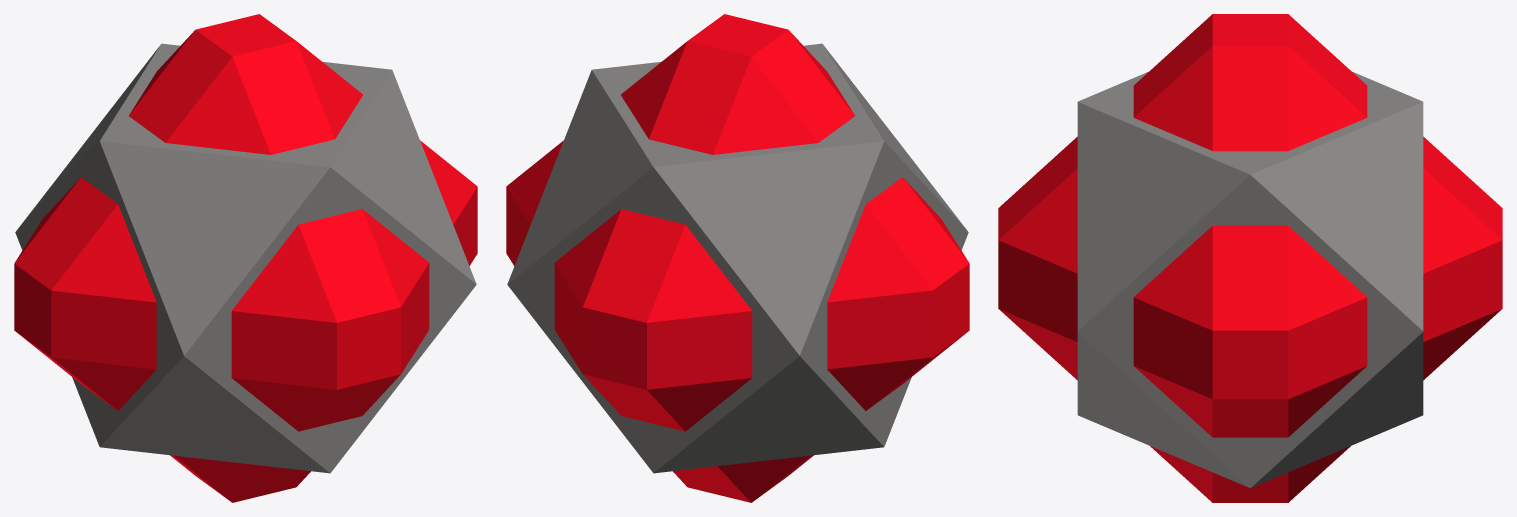
Rendered from targetBall.obj.
3 views of the same model, side by side, from view 1: azimuth 30°, elevation 25°; view 2: azimuth 150°, elevation 25°; view 3: azimuth 270°, elevation 25° (orthographic). The views are drawn at different scales.
Visible parts, largest first — view 1: 自機狙いボール_立方体.005; view 2: 自機狙いボール_立方体.005; view 3: 自機狙いボール_立方体.005.
Boxes of the visible parts, box(x1,y1,x2,y2) form: 自機狙いボール_立方体.005: box(14, 14, 477, 502); 自機狙いボール_立方体.005: box(506, 14, 969, 502); 自機狙いボール_立方体.005: box(998, 14, 1502, 502).
Size of the model in its own units: 2 by 2 by 2.
1 material, 1 textured.
